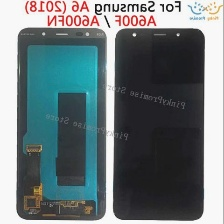phone: (109, 25, 209, 222), (13, 25, 110, 222)
